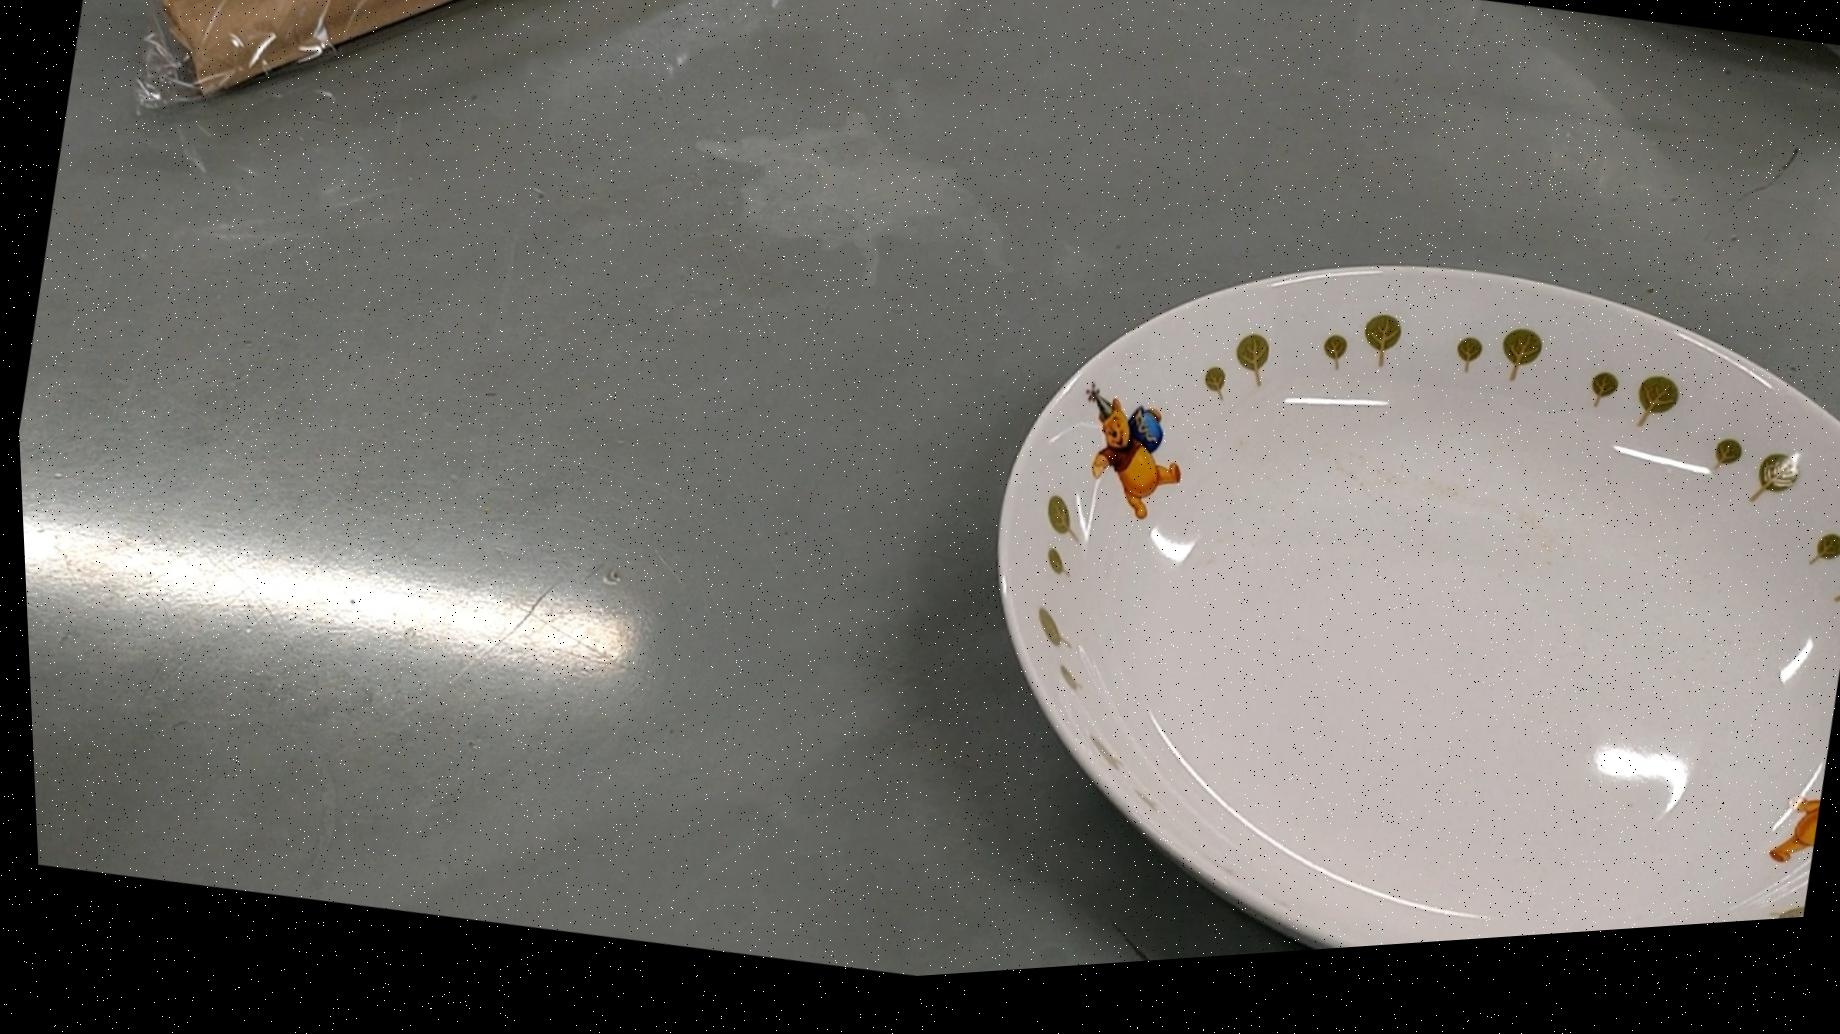plate: (902, 183, 1840, 987)
